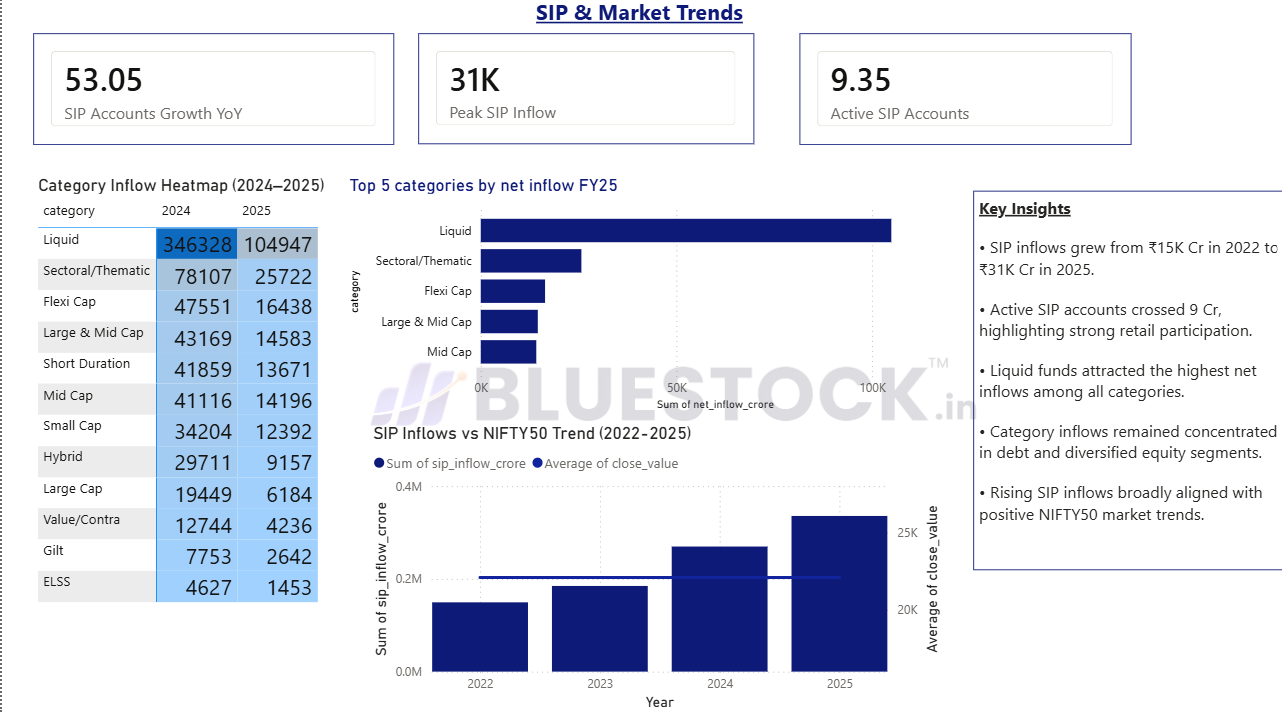

What the dashboard file says about the page in this screenshot:
{"tool":"powerbi","page":{"name":" SIP & Market Trends","canvas":[1280,720],"ordinal":3},"visuals":[{"type":"cardVisual","fields":{"Data":["Max(clean_monthly_sip_inflows.yoy_growth_pct)"]},"box":[31.6,41.2,359.5,111.1],"z":0},{"type":"cardVisual","fields":{"Data":["Max(clean_monthly_sip_inflows.sip_inflow_crore)"]},"box":[414.2,41.1,334.6,110.7],"z":1},{"type":"textbox","box":[10,0,1248.9,41.1],"z":2},{"type":"cardVisual","fields":{"Data":["Max(clean_monthly_sip_inflows.active_sip_accounts_crore)"]},"box":[793.1,41.2,330.7,111.1],"z":3},{"type":"lineClusteredColumnComboChart","title":"SIP Inflows vs NIFTY50 Trend (2022-2025)","fields":{"Category":["clean_monthly_sip_inflows.month.Variation.Date Hierarchy.Year","clean_monthly_sip_inflows.month.Variation.Date Hierarchy.Quarter","clean_monthly_sip_inflows.month.Variation.Date Hierarchy.Month","clean_monthly_sip_inflows.month.Variation.Date Hierarchy.Day"],"Y":["Sum(clean_monthly_sip_inflows.sip_inflow_crore)"],"Y2":["Avg(clean_benchmark_indices.close_value)"]},"box":[365,429.5,573.6,290.9],"z":4},{"type":"pivotTable","title":"Category Inflow Heatmap (2024–2025)","fields":{"Rows":["clean_category_inflows.category"],"Columns":["clean_category_inflows.month.Variation.Date Hierarchy.Year","clean_category_inflows.month.Variation.Date Hierarchy.Quarter","clean_category_inflows.month.Variation.Date Hierarchy.Month","clean_category_inflows.month.Variation.Date Hierarchy.Day"],"Values":["Sum(clean_category_inflows.net_inflow_crore)"]},"box":[31.1,181.6,313.5,451.6],"z":5},{"type":"clusteredBarChart","title":"Top 5 categories by net inflow FY25","fields":{"Category":["clean_category_inflows.category"],"Y":["Sum(clean_category_inflows.net_inflow_crore)"]},"box":[340.8,181.6,622,240.1],"z":6},{"type":"textbox","box":[966,197.6,314.2,377.4],"z":7},{"type":"image","box":[364.5,322.2,610.8,150.5],"z":8}]}

Visuals, with their boxes in screenshot pixels (x1, y1, x2, y2), scaled from the page's 1280x720 canvas onto the 1282x712 screenshot:
cardVisual - Max(clean_monthly_sip_inflows.yoy_growth_pct): (32,41,392,151)
cardVisual - Max(clean_monthly_sip_inflows.sip_inflow_crore): (415,41,750,150)
textbox: (10,0,1261,41)
cardVisual - Max(clean_monthly_sip_inflows.active_sip_accounts_crore): (794,41,1126,151)
"SIP Inflows vs NIFTY50 Trend (2022-2025)" lineClusteredColumnComboChart: (366,425,940,711)
"Category Inflow Heatmap (2024–2025)" pivotTable: (31,180,345,626)
"Top 5 categories by net inflow FY25" clusteredBarChart: (341,180,964,417)
textbox: (968,195,1281,569)
image: (365,319,977,467)
